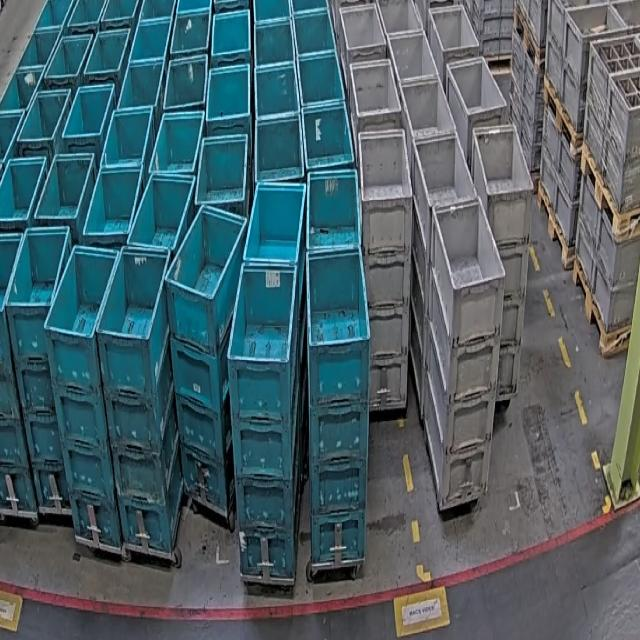4G: (422, 196, 506, 505), (471, 123, 534, 396), (358, 128, 413, 408)
B4: (94, 242, 184, 554), (164, 203, 248, 511), (226, 260, 302, 580), (44, 244, 122, 551), (305, 243, 371, 565), (6, 225, 78, 511)
